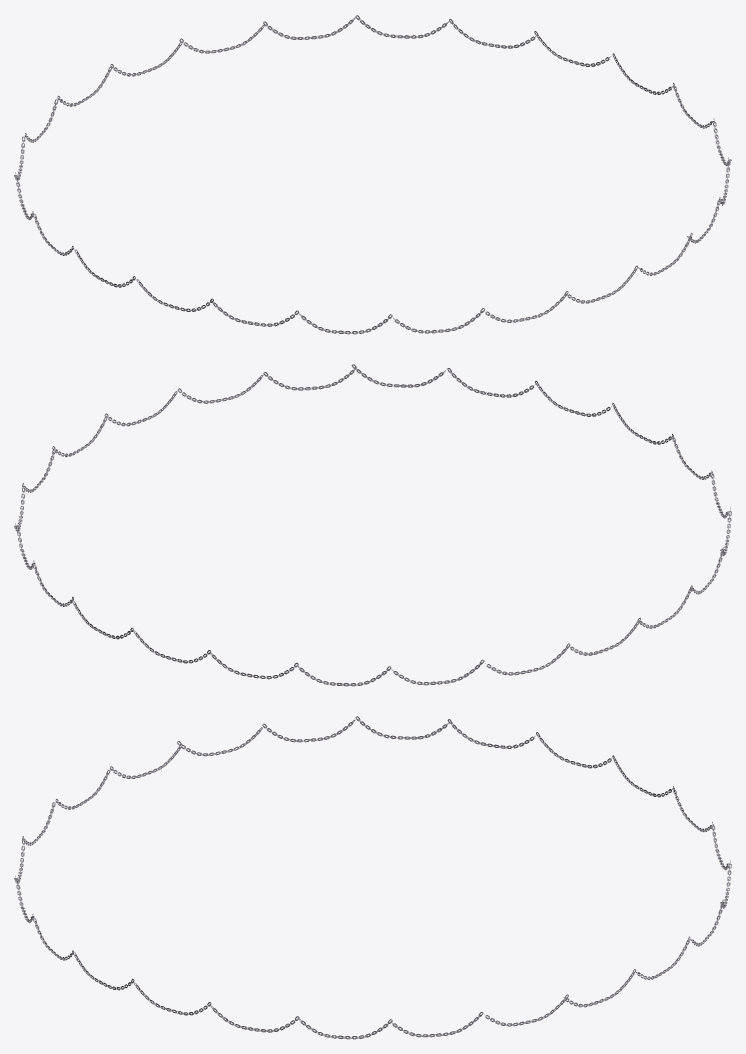
File: found_chains_dock_super.dae
3 views of the same model, one above another, from view 1: azimuth 30°, elevation 25°; view 2: azimuth 150°, elevation 25°; view 3: azimuth 270°, elevation 25° (orthographic).
Visible parts, largest first — view 1: Plane077; view 2: Plane077; view 3: Plane077.
Part boxes in pixels (box(x1,y1,x2,y2)): Plane077: box(14, 15, 731, 334); Plane077: box(14, 364, 731, 686); Plane077: box(14, 716, 731, 1039).
Size of the model in its own units: 42.45 by 1.47 by 42.3.
